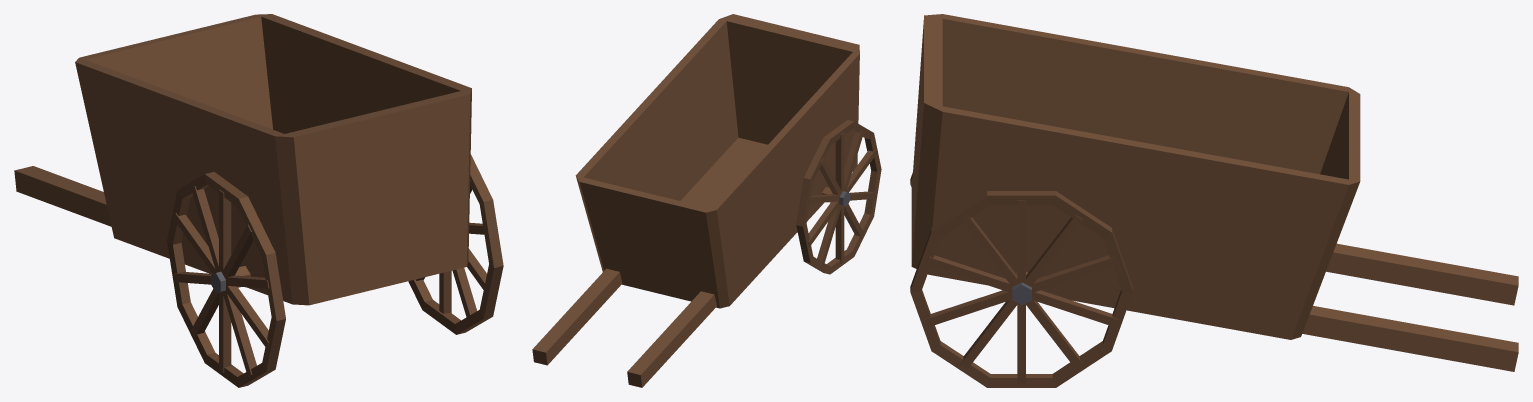
The model's file is Gerobak.fbx.
The picture shows the model from 3 angles, left to right: view 1: azimuth 30°, elevation 25°; view 2: azimuth 150°, elevation 25°; view 3: azimuth 270°, elevation 25°; orthographic projection. The views are drawn at different scales.
Parts seen in each view (by area): view 1: Cube.006; view 2: Cube.006; view 3: Cube.006.
Part boxes in pixels (bbox=[...]): Cube.006: bbox=[14, 14, 503, 387]; Cube.006: bbox=[532, 14, 881, 387]; Cube.006: bbox=[910, 14, 1518, 387].
Bounding box in the file's own units: 240 × 260 × 521.
